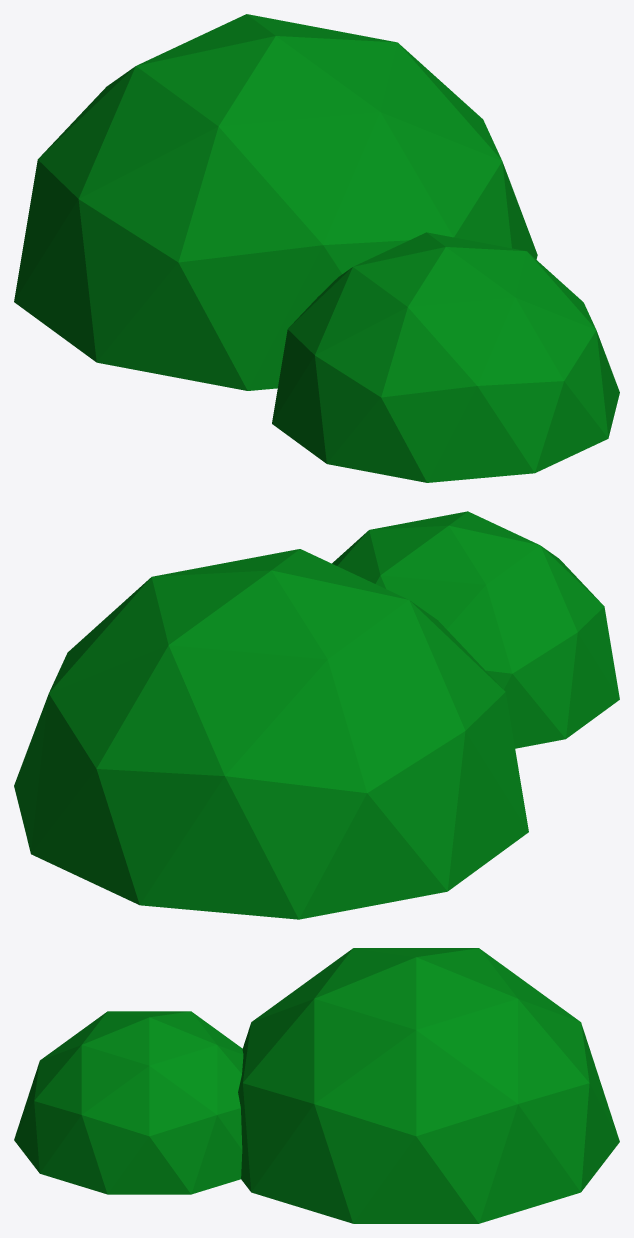
The model's file is viminalis_level0.glb.
The picture shows the model from 3 angles, top to bottom: view 1: azimuth 30°, elevation 25°; view 2: azimuth 150°, elevation 25°; view 3: azimuth 270°, elevation 25°; orthographic projection. The views are drawn at different scales.
Parts seen in each view (by area): view 1: 立方体.001; view 2: 立方体.001; view 3: 立方体.001.
Boxes of the visible parts, x1=… form: 立方体.001: x1=14, y1=14, x2=619, y2=482; 立方体.001: x1=14, y1=511, x2=619, y2=919; 立方体.001: x1=14, y1=948, x2=619, y2=1223.
Bounding box in the file's own units: 2.15 × 1.13 × 3.36.
